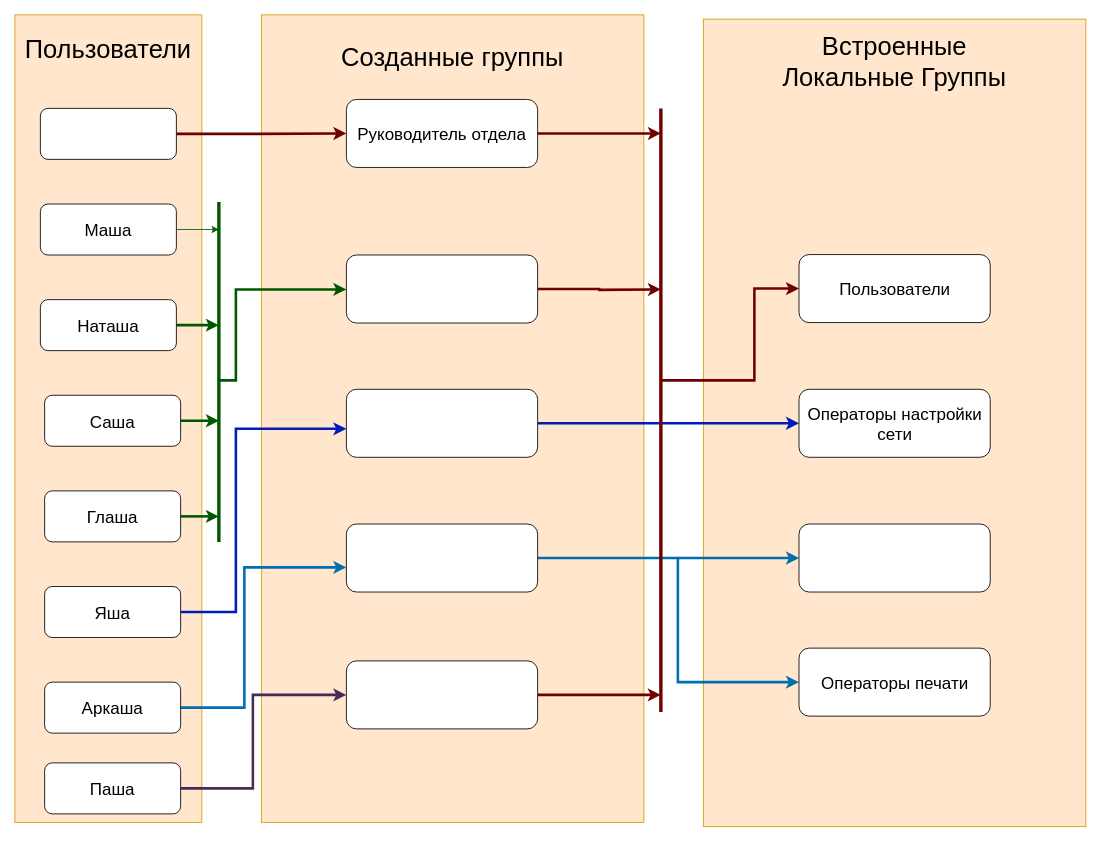
Some shapes in this 1101 by 842 pixel diagram are drawn without their labels. The shapes that lost their labels are listed below. From the top down, each one's centre as x and y in pixels, then its label:
At point 108,133: "Тимур Игоревич".
At point 442,288: "Оператор call-центра".
At point 442,422: "Администратор сети".
At point 442,557: "Администратор по управлению пользователями".
At point 894,557: "Операторы учета".
At point 442,694: "Сотрудник службы охраны".
